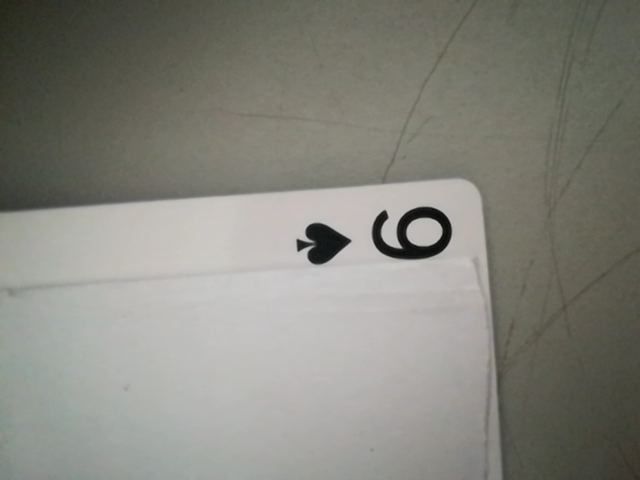ht 9: (275, 195, 475, 274)
